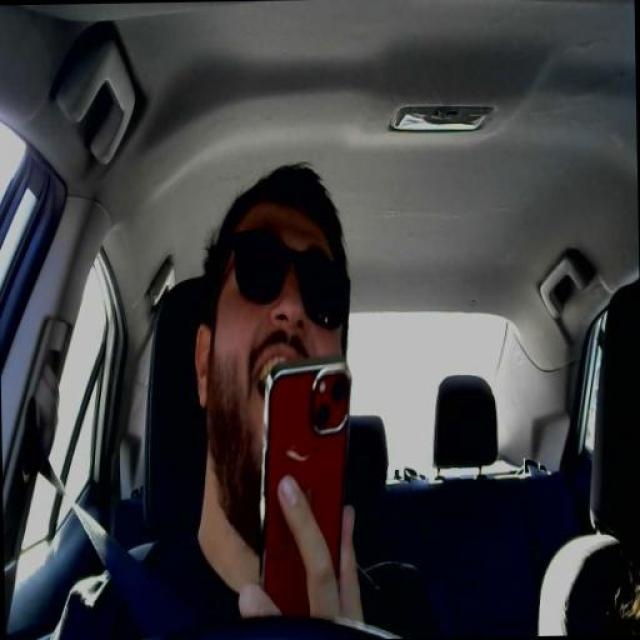phone: (260, 359, 353, 608)
